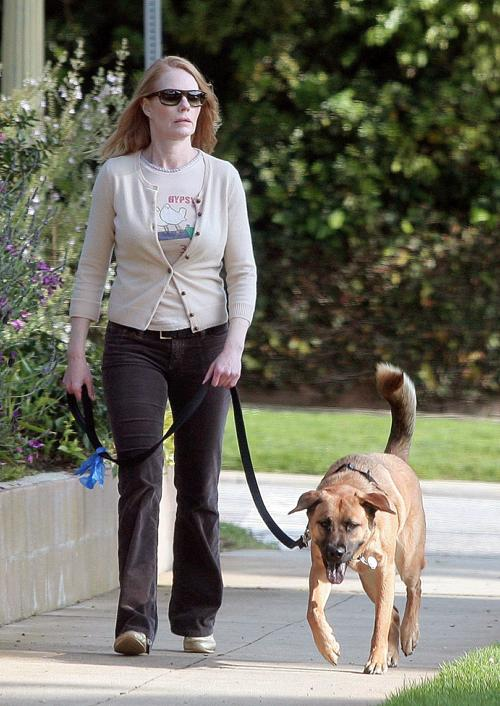person: (63, 57, 258, 654)
